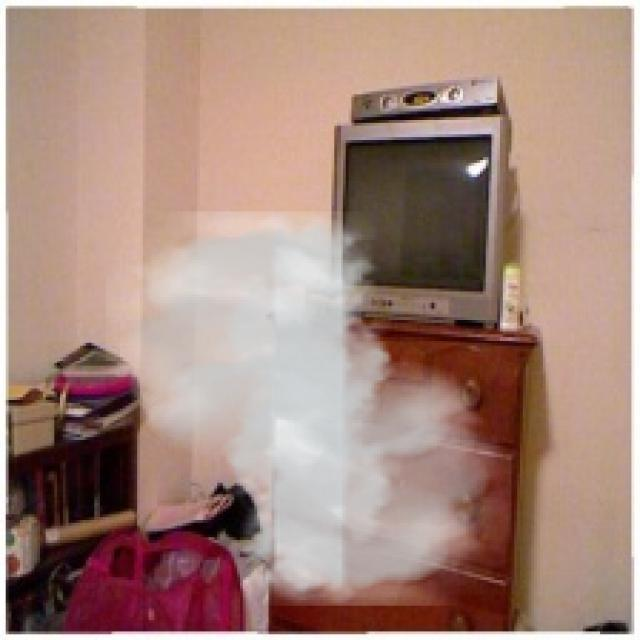Smoke: (106, 211, 512, 606)
